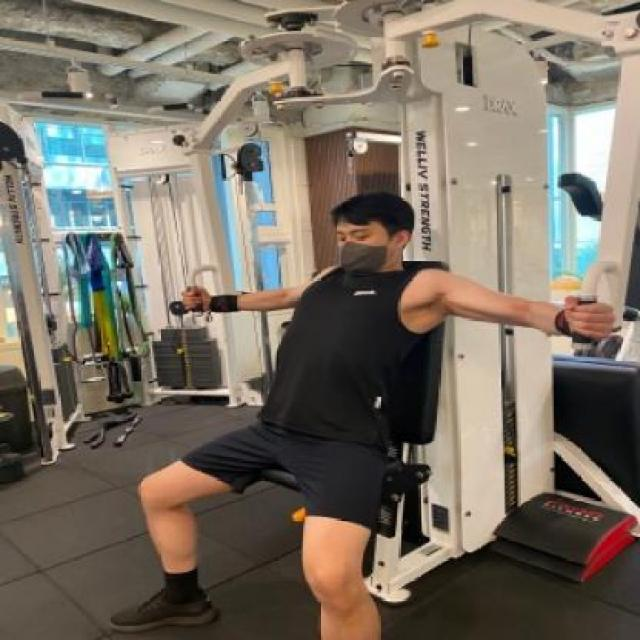chest fly machine: (66, 0, 640, 628)
